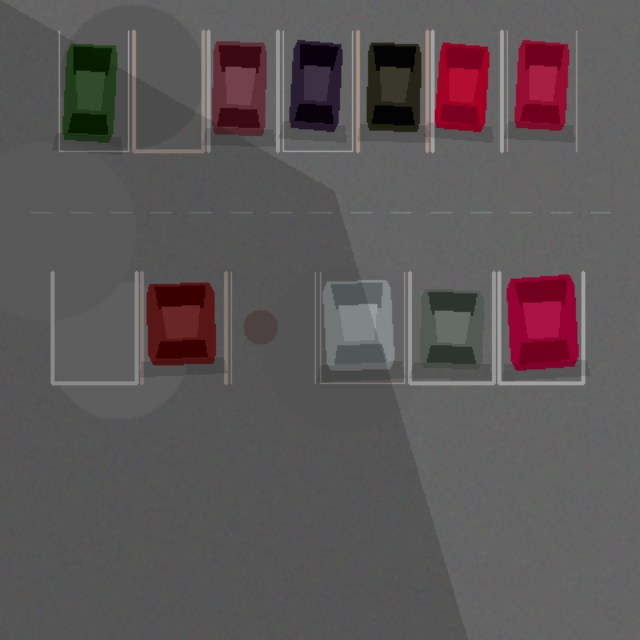space-empty: (52, 272, 136, 383), (231, 272, 315, 383), (133, 31, 203, 151)
space-occupied: (141, 272, 225, 383), (320, 272, 404, 383), (409, 272, 493, 383), (499, 272, 583, 383), (357, 31, 427, 151), (59, 31, 128, 151), (208, 31, 277, 151), (283, 31, 352, 151), (432, 31, 501, 151), (507, 31, 576, 151)
